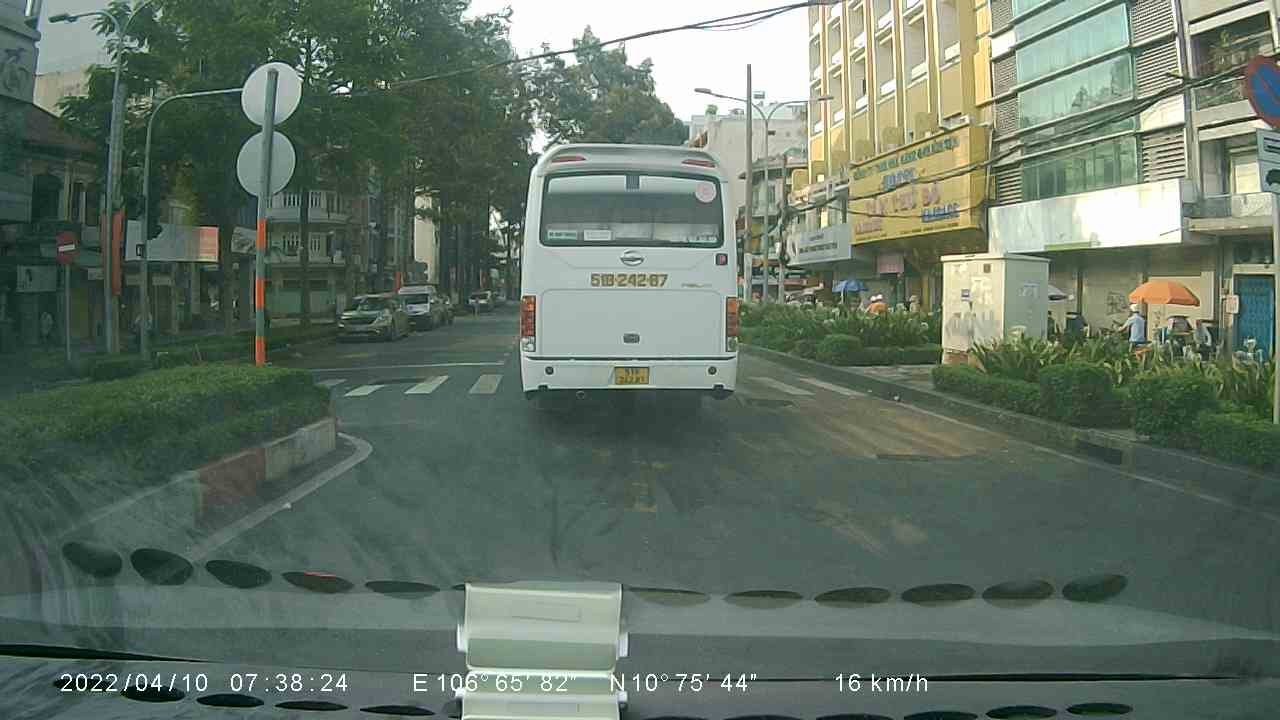Cam do xe: (1238, 54, 1279, 132)
